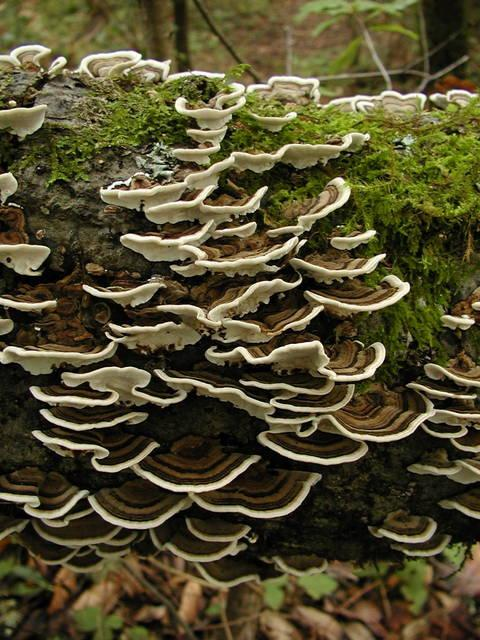poisonous_mushroom: (1, 44, 477, 584)
